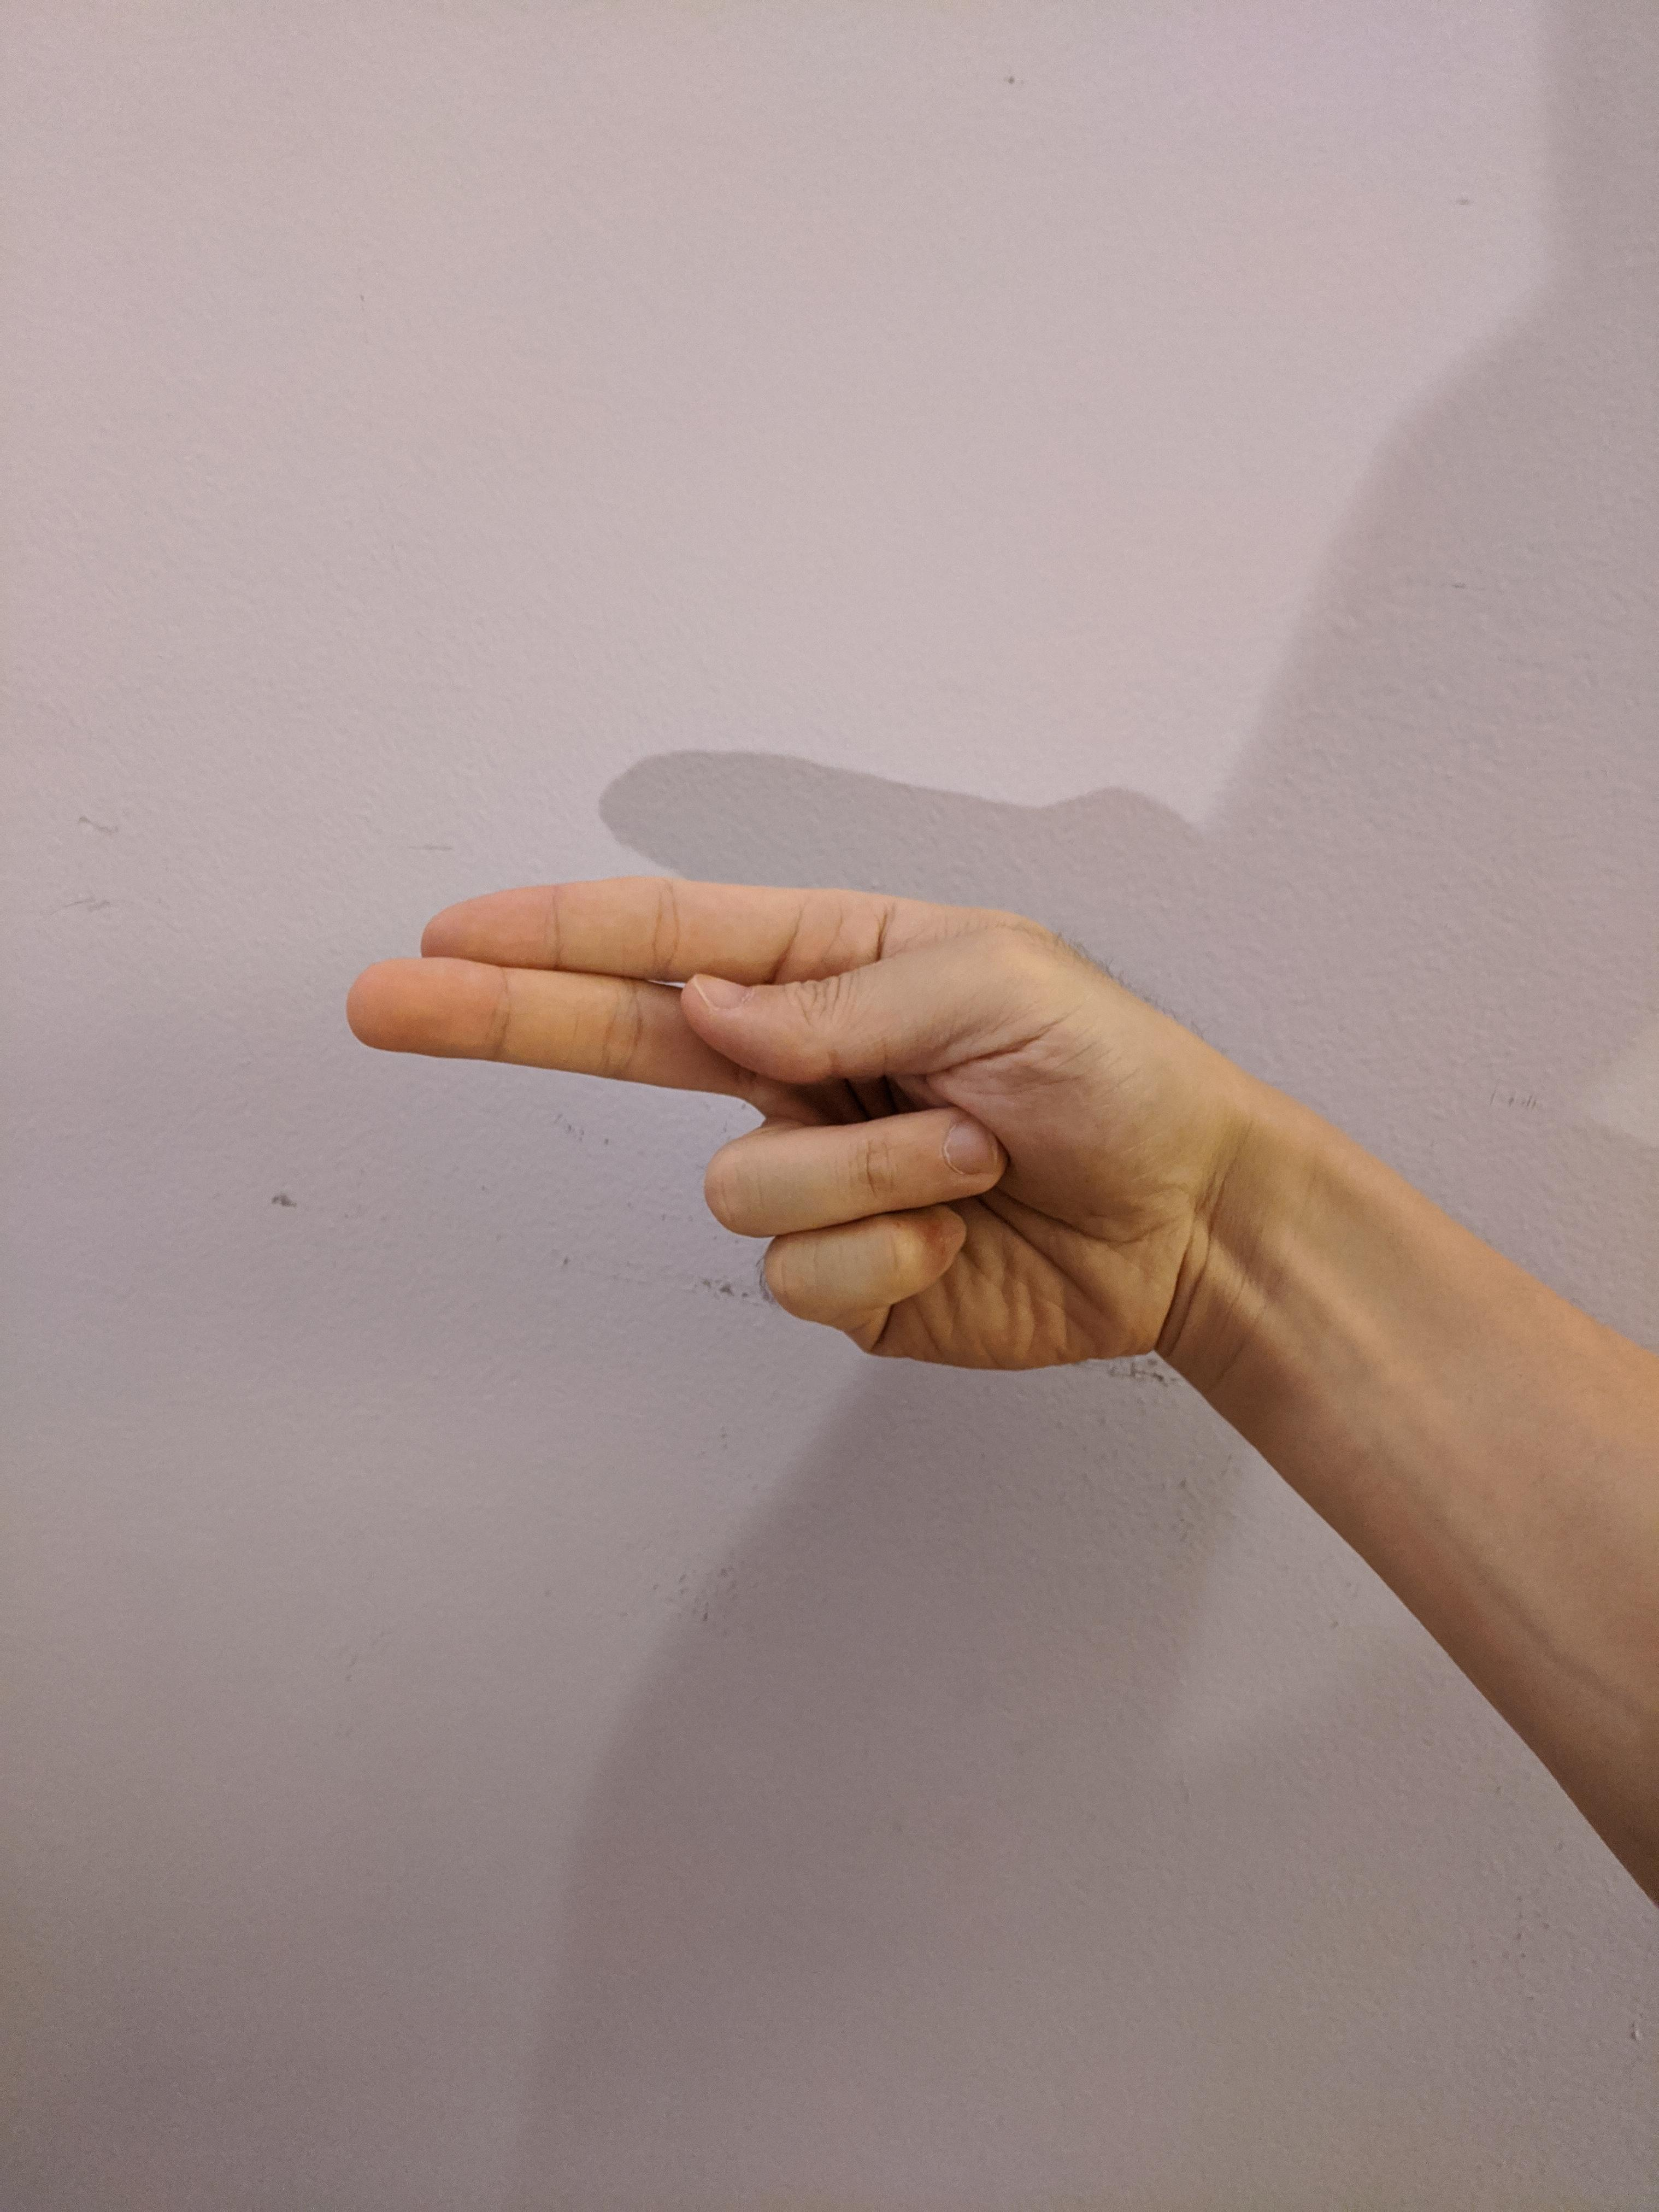H: (328, 860, 1237, 1395)
